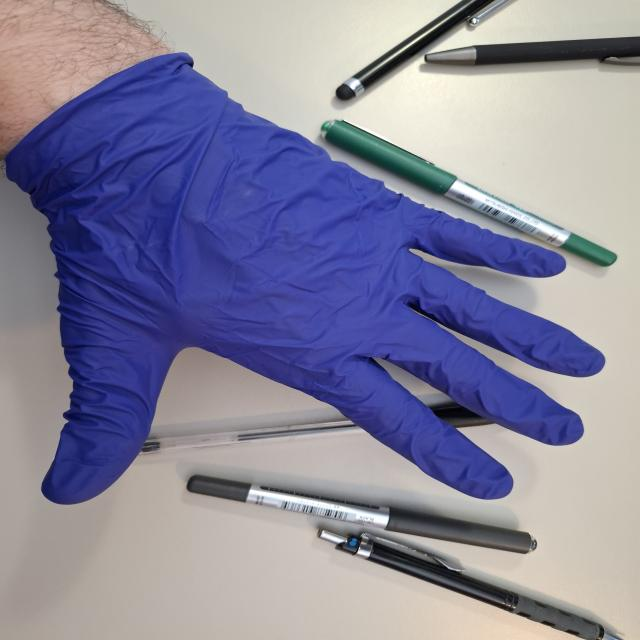glove_on: (5, 49, 611, 508)
